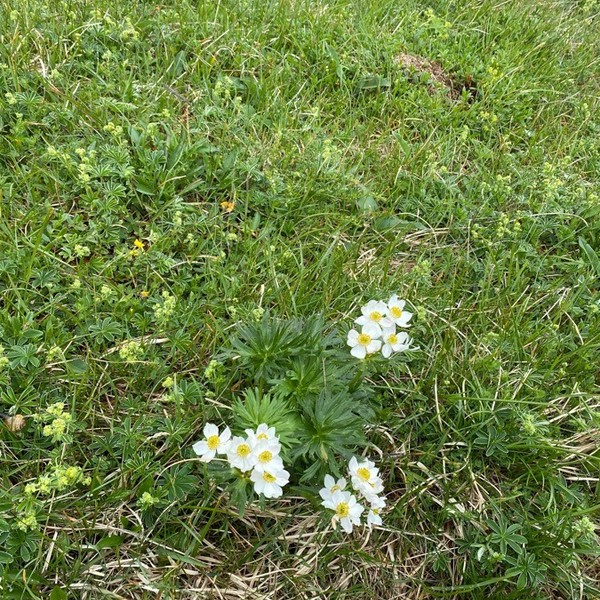obstacle: (64, 34, 507, 249), (183, 282, 411, 538), (443, 296, 580, 528), (9, 310, 132, 540), (191, 396, 304, 503), (318, 437, 408, 527)
